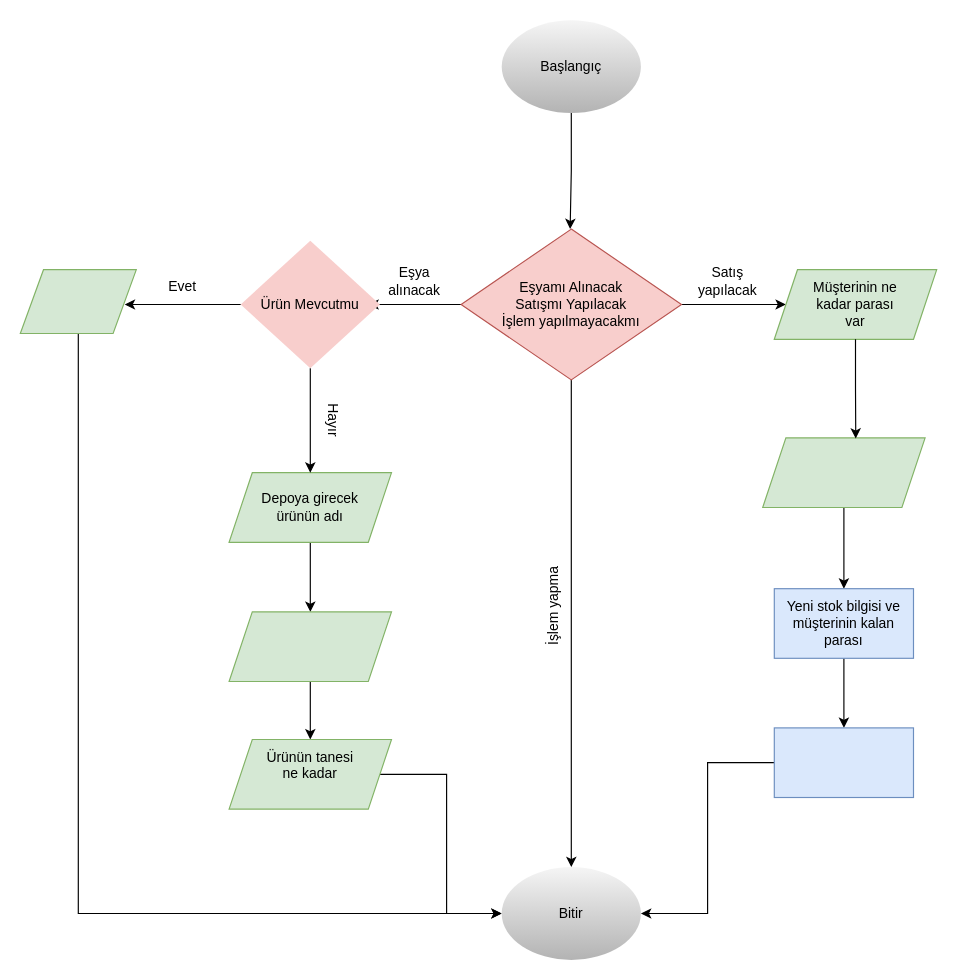
This 957x979 diagram has some shape labels left out. The centre of each missing label's shape, as x and y in pixels:
"Müşterinin aldığı ürün ve fiyatı yaz" goes at (843,472).
"Ne kadar alınacak" goes at (310,646).
"Satış başarılı/Yetersiz para" goes at (843,762).
"Ürünü güncelle" goes at (77,301).
